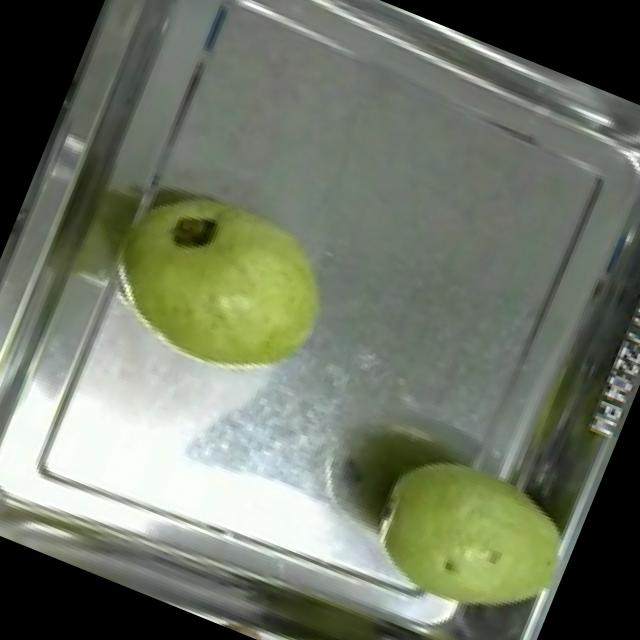Fruit: (85, 156, 365, 414), (342, 422, 590, 640)
